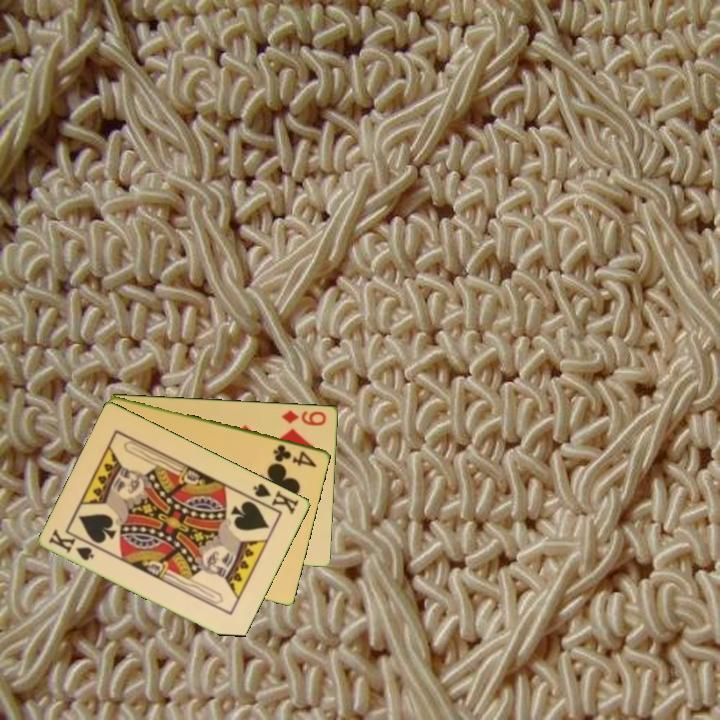4c: (270, 441, 320, 470)
9d: (278, 407, 330, 428)
Ks: (246, 480, 302, 517), (45, 525, 97, 563)
